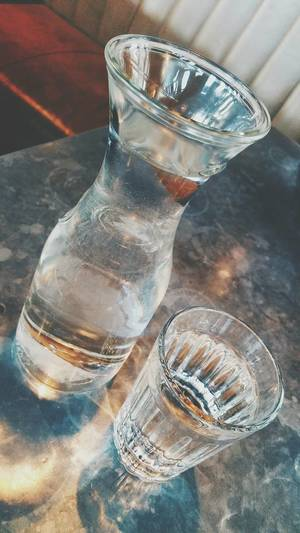glass of water: (75, 123, 141, 363), (155, 304, 236, 471)
